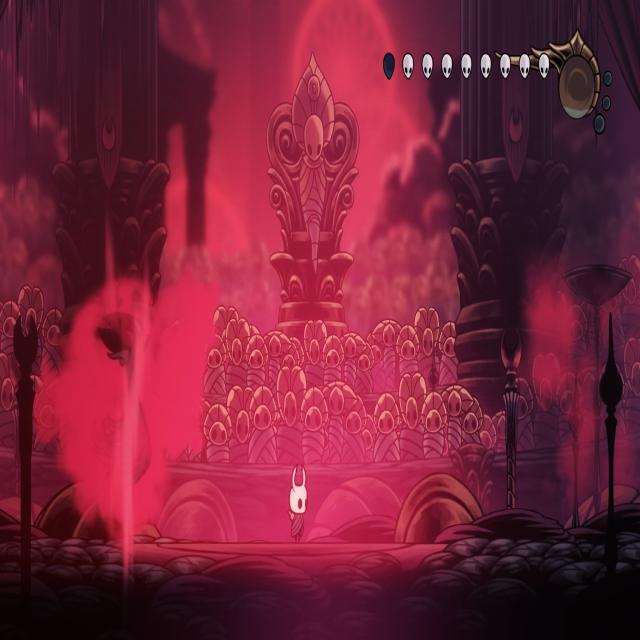Grimm: (92, 300, 160, 540)
Player: (284, 462, 308, 546)
